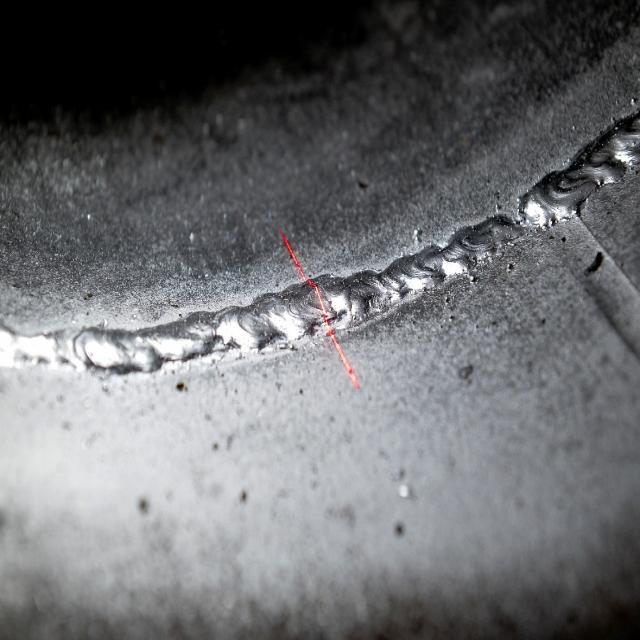Good Weld: (82, 280, 304, 371), (351, 222, 498, 305), (536, 113, 636, 222)
